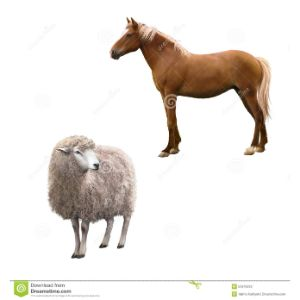horse: (109, 11, 276, 157)
sheep: (42, 133, 138, 260)
